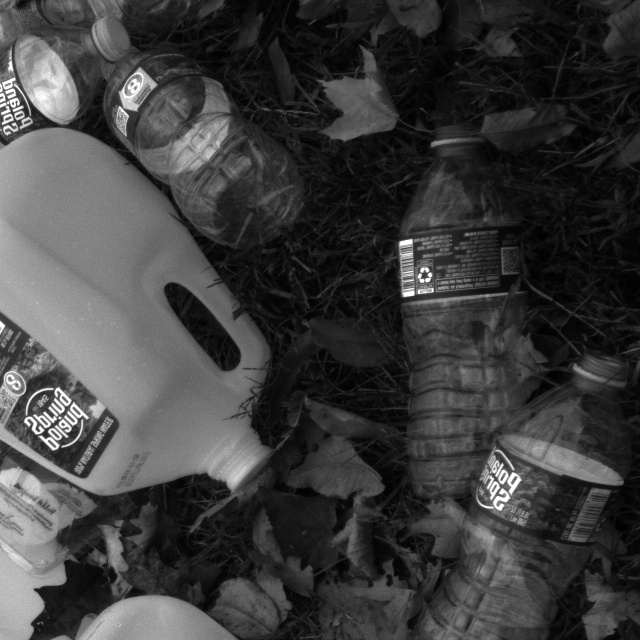bottle: (400, 338, 626, 640), (391, 126, 536, 500), (91, 37, 308, 246), (0, 7, 140, 212)
can: (0, 125, 289, 503), (0, 473, 82, 640)
